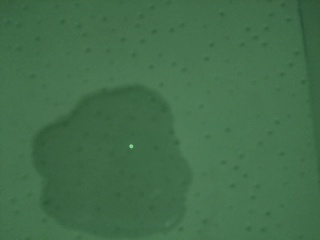Water_detected: (57, 104, 164, 208)
